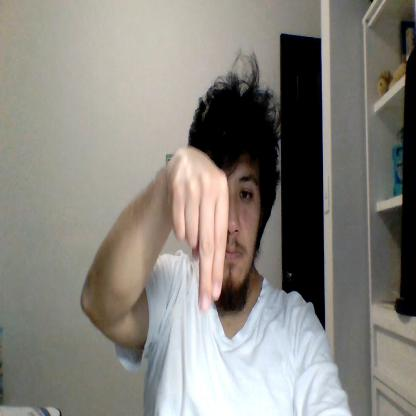N: (170, 148, 228, 313)
